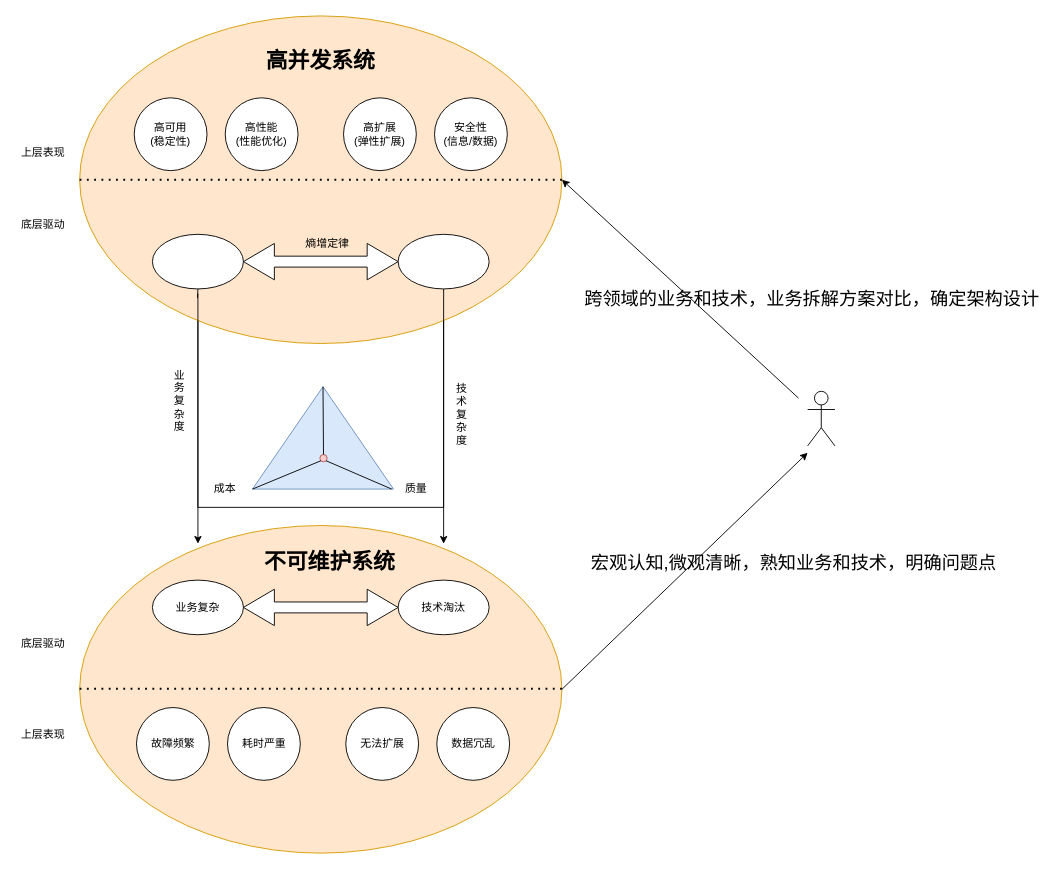
This 1059x869 diagram has some shape labels left out. The shapes that lost their labels are listed below. From the top down, each one's box as (x1, y1, x2, y2) in pixels, then its label:
(152, 233, 243, 289): 业务
(397, 233, 489, 289): 技术
(252, 386, 394, 489): 效率
(807, 390, 835, 446): 架构师
